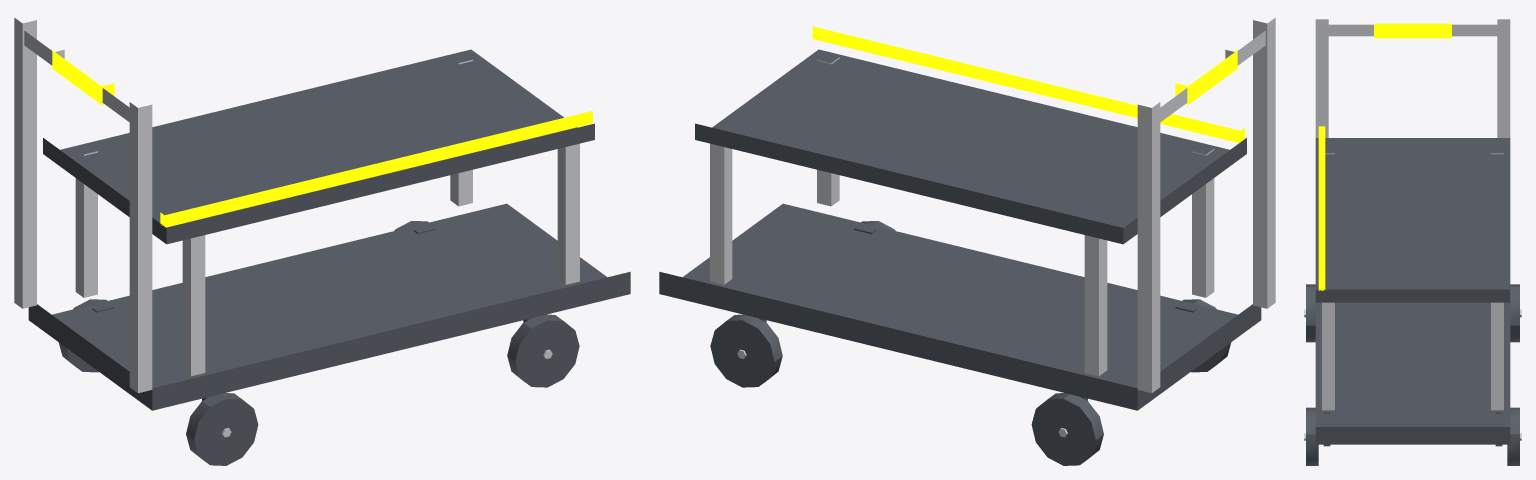
The model's file is ext_service_hand_cart_03.glb.
3 renders of one model, left to right at view 1: azimuth 30°, elevation 25°; view 2: azimuth 150°, elevation 25°; view 3: azimuth 270°, elevation 25°, orthographic. The views are drawn at different scales.
Visible parts, largest first — view 1: Deck, Upper_Shelf, Handle, Posts, Wheels, Shelf_Lip, Grip; view 2: Deck, Upper_Shelf, Handle, Posts, Wheels, Shelf_Lip, Grip; view 3: Upper_Shelf, Deck, Handle, Posts, Wheels, Shelf_Lip, Grip.
Boxes of the visible parts, box(x1,y1,x2,y2) form: Deck: box(28, 203, 630, 410); Upper_Shelf: box(43, 49, 594, 244); Handle: box(14, 17, 152, 393); Posts: box(75, 57, 579, 376); Wheels: box(58, 221, 579, 465); Shelf_Lip: box(160, 111, 592, 227); Grip: box(52, 50, 114, 104); Deck: box(659, 203, 1261, 410); Upper_Shelf: box(695, 49, 1246, 244); Handle: box(1137, 17, 1275, 393); Posts: box(710, 57, 1214, 376); Wheels: box(710, 221, 1231, 465); Shelf_Lip: box(812, 26, 1244, 142); Grip: box(1175, 50, 1237, 104); Upper_Shelf: box(1315, 138, 1510, 302); Deck: box(1315, 302, 1510, 444); Handle: box(1315, 19, 1510, 137); Posts: box(1322, 153, 1503, 410); Wheels: box(1306, 284, 1519, 465); Shelf_Lip: box(1318, 126, 1325, 290); Grip: box(1374, 23, 1451, 38).
Bounding box in the file's own units: 1.38 × 1 × 0.67.
